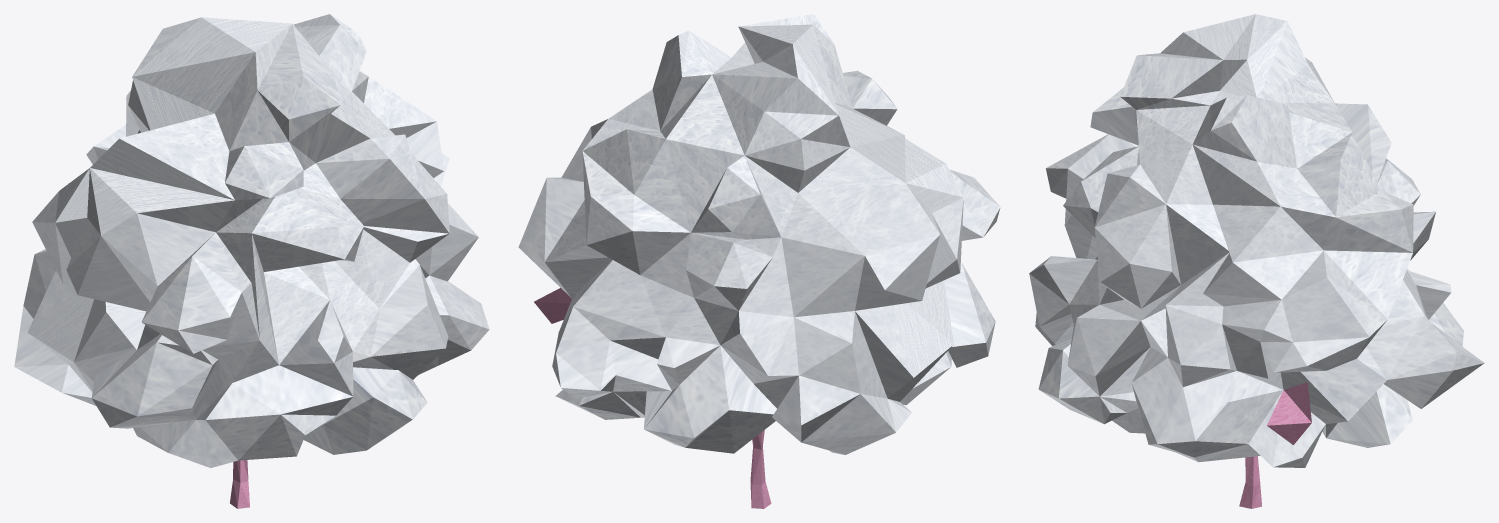
File: snow64-tree-mobile.glb
3 renders of one model, left to right at view 1: azimuth 30°, elevation 25°; view 2: azimuth 150°, elevation 25°; view 3: azimuth 270°, elevation 25°, orthographic. The views are drawn at different scales.
Visible parts, largest first — view 1: CLOUD_WHITE_PLUSH_MOBILE, TRUNK_PINK_PLUSH_MOBILE; view 2: CLOUD_WHITE_PLUSH_MOBILE, TRUNK_PINK_PLUSH_MOBILE, TWIG_PINK_PLUSH_MOBILE; view 3: CLOUD_WHITE_PLUSH_MOBILE, TWIG_PINK_PLUSH_MOBILE, TRUNK_PINK_PLUSH_MOBILE.
Boxes of the visible parts, x1=… form: CLOUD_WHITE_PLUSH_MOBILE: x1=14, y1=14, x2=489, y2=467; TRUNK_PINK_PLUSH_MOBILE: x1=230, y1=460, x2=249, y2=508; CLOUD_WHITE_PLUSH_MOBILE: x1=518, y1=14, x2=1000, y2=454; TRUNK_PINK_PLUSH_MOBILE: x1=750, y1=430, x2=771, y2=508; TWIG_PINK_PLUSH_MOBILE: x1=534, y1=288, x2=571, y2=323; CLOUD_WHITE_PLUSH_MOBILE: x1=1029, y1=14, x2=1484, y2=467; TWIG_PINK_PLUSH_MOBILE: x1=1267, y1=382, x2=1311, y2=444; TRUNK_PINK_PLUSH_MOBILE: x1=1239, y1=456, x2=1262, y2=508.
Bounding box in the file's own units: 0.8291 × 0.9541 × 0.8315.
2 materials, 2 textured.
